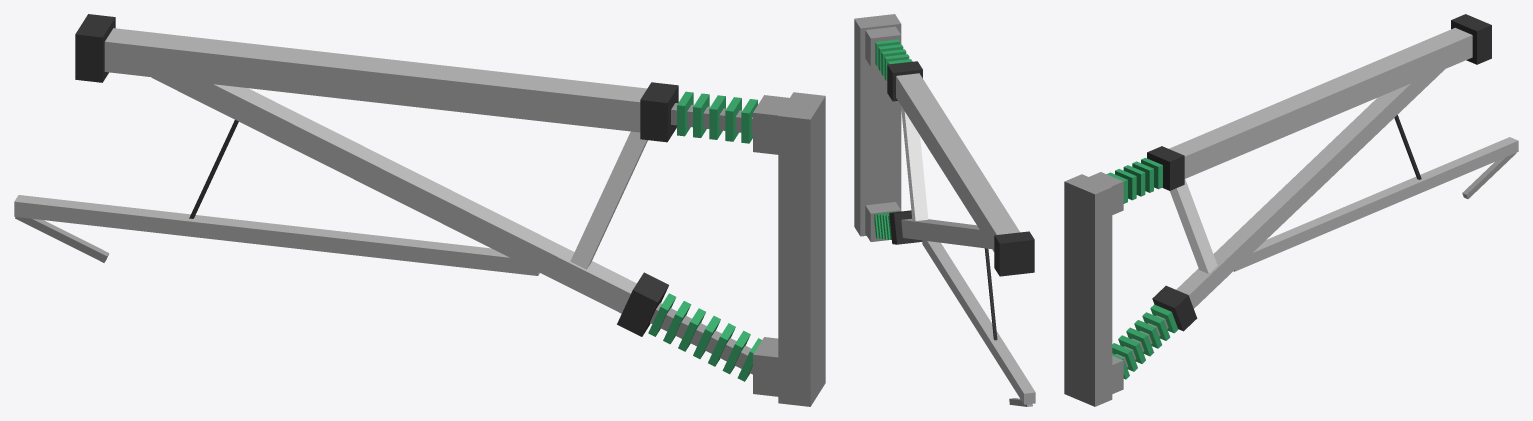
Rendered from catenary_grid_a1_45.obj.
The picture shows the model from 3 angles, left to right: view 1: azimuth 30°, elevation 25°; view 2: azimuth 150°, elevation 25°; view 3: azimuth 270°, elevation 25°; orthographic projection. The views are drawn at different scales.
Visible parts, largest first — view 1: catenary_grid_a1_45; view 2: catenary_grid_a1_45; view 3: catenary_grid_a1_45.
Boxes of the visible parts, x1=… form: catenary_grid_a1_45: x1=14, y1=14, x2=825, y2=406; catenary_grid_a1_45: x1=854, y1=14, x2=1035, y2=406; catenary_grid_a1_45: x1=1064, y1=14, x2=1518, y2=406.
Bounding box in the file's own units: 2.3 × 1.19 × 2.3.
